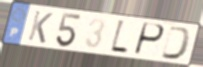3: (84, 17, 108, 51)
5: (54, 11, 84, 49)
D: (159, 24, 193, 61)
K: (26, 9, 54, 45)
L: (108, 18, 130, 56)
P: (132, 21, 166, 57)
